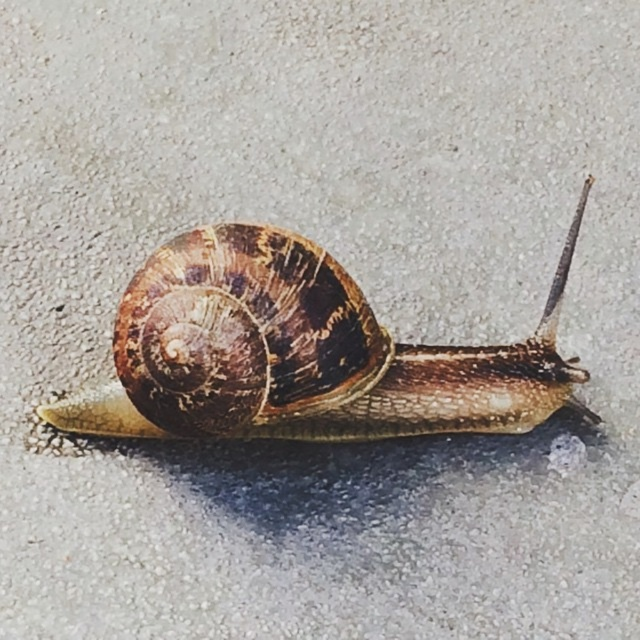Snail: (37, 173, 605, 440)
